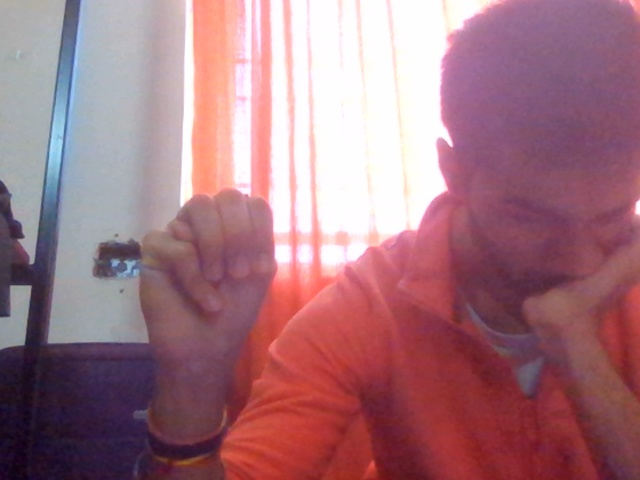M: (107, 161, 363, 435)
